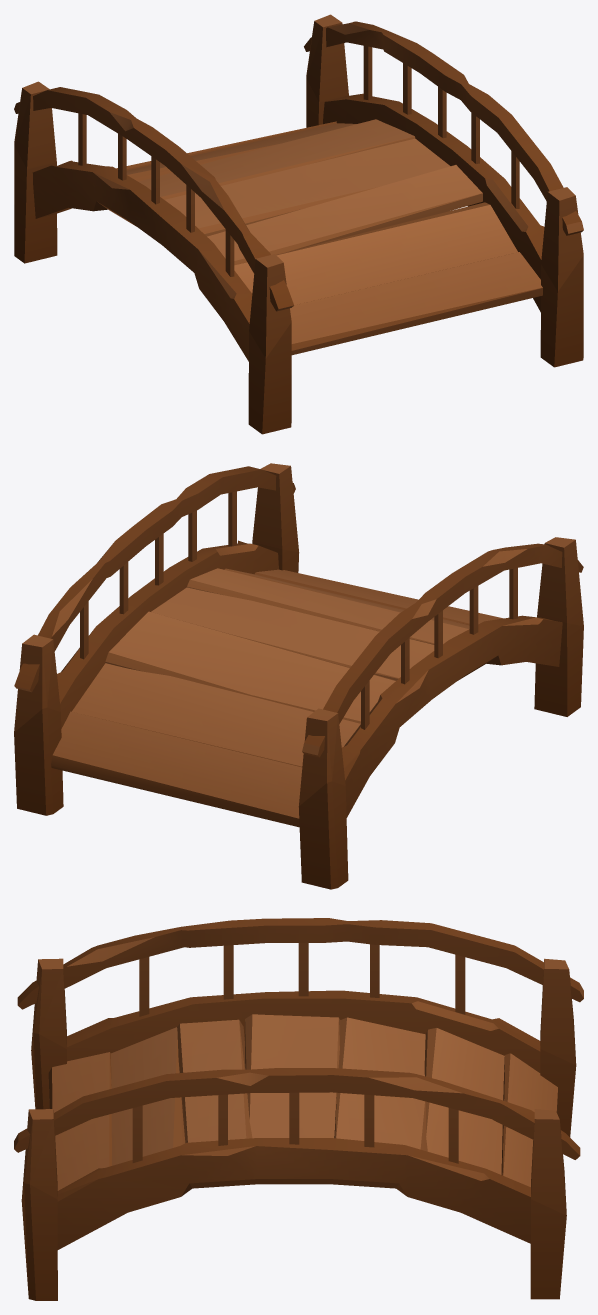
The model's file is WoodBridge1.fbx.
The picture shows the model from 3 angles, top to bottom: view 1: azimuth 30°, elevation 25°; view 2: azimuth 150°, elevation 25°; view 3: azimuth 270°, elevation 25°; orthographic projection. The views are drawn at different scales.
Visible parts, largest first — view 1: Plane; view 2: Plane; view 3: Plane.
Part boxes in pixels (x1,y1,x2,y2): Plane: [14, 14, 583, 434]; Plane: [14, 463, 583, 889]; Plane: [14, 918, 583, 1300].
Bounding box in the file's own units: 811 × 491 × 1156.
